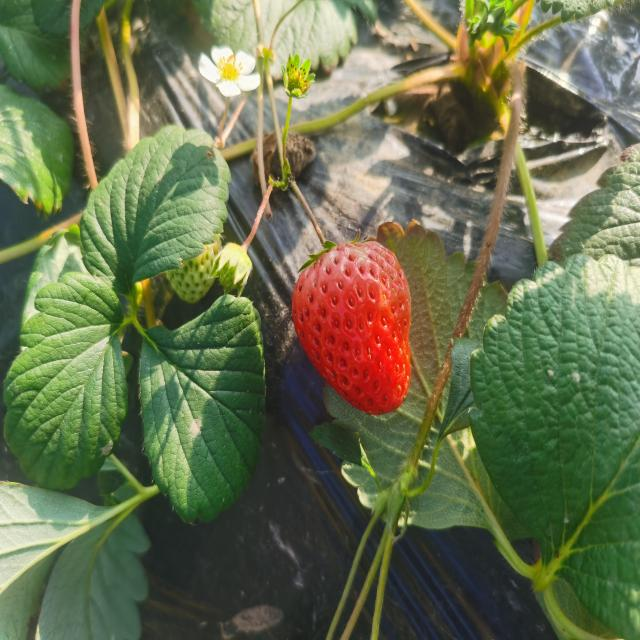stem: (302, 201, 330, 253)
strawberry: (291, 241, 411, 415)
